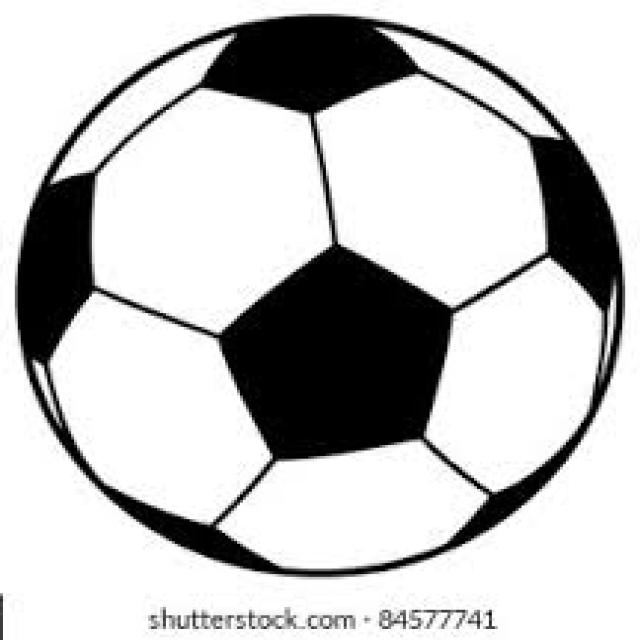ball: (15, 16, 622, 577)
